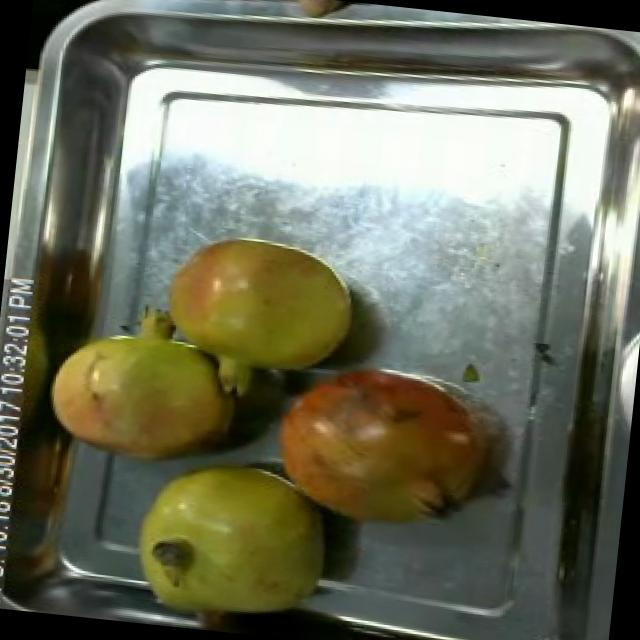fruit: (240, 344, 514, 554), (116, 435, 352, 640), (36, 286, 264, 481), (134, 215, 368, 388), (257, 0, 361, 28)
